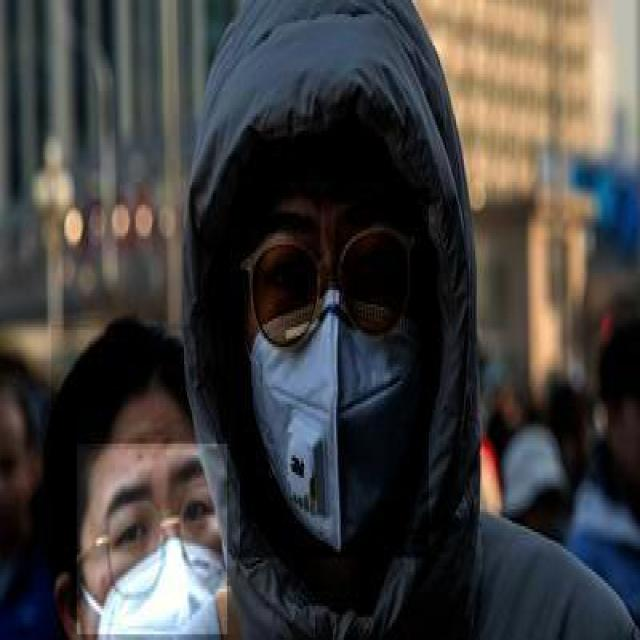face_mask: (240, 188, 430, 560), (77, 444, 229, 637)
glasses: (241, 225, 420, 344), (90, 483, 233, 598)
head_nohelmet: (190, 28, 460, 194), (51, 324, 195, 450)
